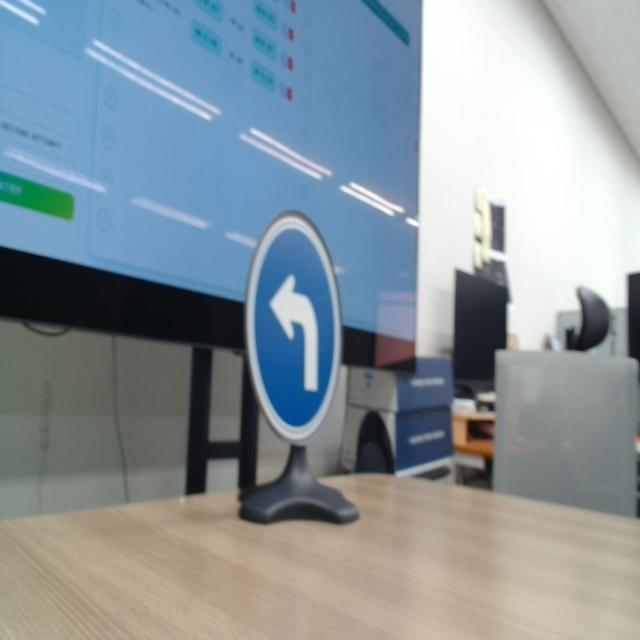left_direction: (240, 203, 347, 457)
